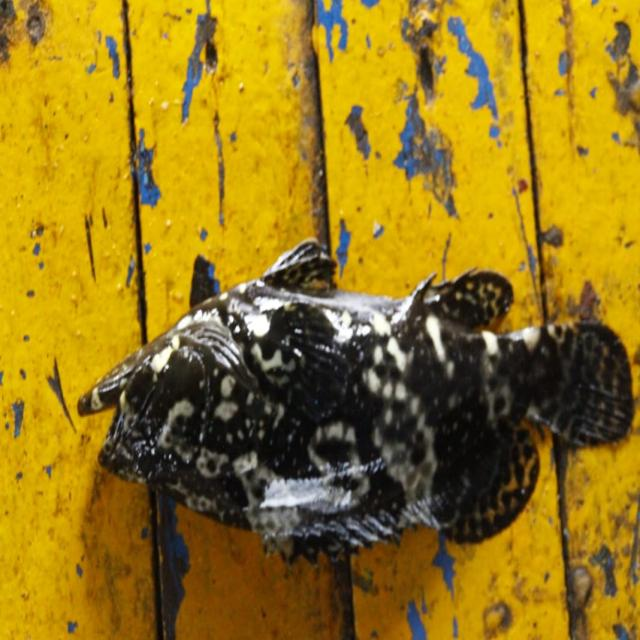ikan: (76, 236, 634, 564)
